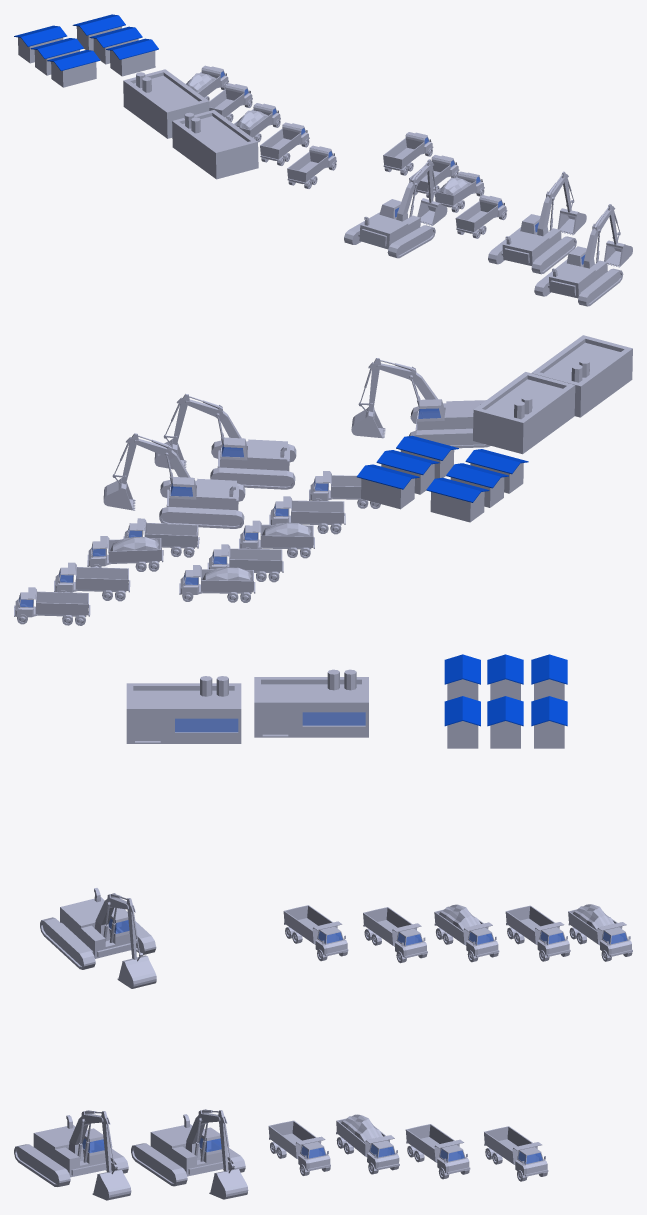
File: Mining.glb
3 renders of one model, top to bottom at view 1: azimuth 30°, elevation 25°; view 2: azimuth 150°, elevation 25°; view 3: azimuth 270°, elevation 25°, orthographic. The views are drawn at different scales.
Visible parts, largest first — view 1: Excavator, Excavator.002, Excavator.001, Mining Office, Mining Office.001, BaseCamp.001, BaseCamp.002, Dump Truck.006, Dump Truck.008, Dump Truck.002, Dump Truck.001, Dump Truck.005 (+4 smaller); view 2: Mining Office.001, Excavator.001, Excavator.002, Excavator, BaseCamp.001, BaseCamp.002, Mining Office, Dump Truck.004, Dump Truck.005, Dump Truck.008, Dump Truck, Dump Truck.007 (+4 smaller); view 3: Mining Office, Mining Office.001, Excavator, Excavator.002, Excavator.001, BaseCamp.002, BaseCamp.001, Dump Truck.005, Dump Truck, Dump Truck.004, Dump Truck.003, Dump Truck.002 (+4 smaller).
Boxes of the visible parts, x1,y1,x2,y2 form: Excavator: (344, 159, 447, 258); Excavator.002: (534, 204, 632, 306); Excavator.001: (488, 171, 586, 274); Mining Office: (172, 110, 258, 179); Mining Office.001: (123, 69, 209, 138); BaseCamp.001: (14, 25, 100, 87); BaseCamp.002: (72, 14, 158, 76); Dump Truck.006: (455, 195, 507, 238); Dump Truck.008: (383, 132, 433, 175); Dump Truck.002: (287, 145, 336, 188); Dump Truck.001: (260, 122, 309, 165); Dump Truck.005: (435, 171, 484, 212); Mining Office.001: (473, 372, 575, 454); Excavator.001: (103, 433, 245, 528); Excavator.002: (154, 394, 296, 489); Excavator: (351, 358, 490, 448); BaseCamp.001: (426, 449, 528, 522); BaseCamp.002: (356, 435, 458, 509); Mining Office: (531, 335, 632, 417); Dump Truck.004: (179, 565, 255, 602); Dump Truck.005: (87, 536, 163, 571); Dump Truck.008: (14, 587, 90, 625); Dump Truck: (239, 520, 314, 558); Dump Truck.007: (54, 562, 130, 601); Mining Office: (126, 676, 241, 743); Mining Office.001: (254, 669, 368, 737); Excavator: (40, 888, 156, 988); Excavator.002: (14, 1110, 131, 1200); Excavator.001: (131, 1109, 248, 1199); BaseCamp.002: (444, 696, 567, 748); BaseCamp.001: (444, 654, 567, 700); Dump Truck.005: (336, 1114, 399, 1174); Dump Truck: (434, 904, 499, 962); Dump Truck.004: (568, 904, 632, 961); Dump Truck.003: (505, 905, 570, 961); Dump Truck.002: (283, 905, 348, 961).
Bounding box in the file's own units: 24.52 × 11.57 × 22.65.
